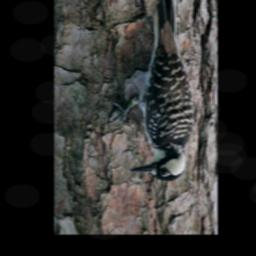Woodpecker: (103, 0, 198, 182)
